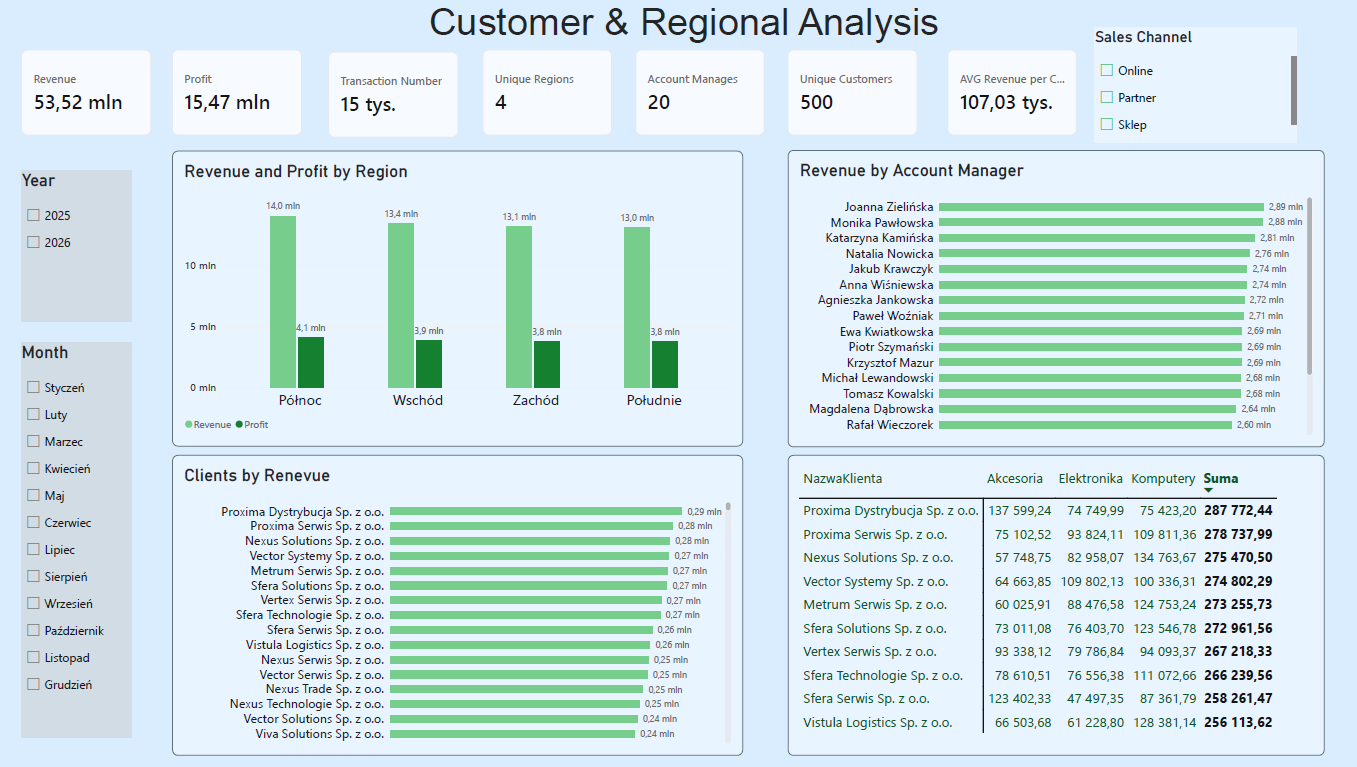

This screenshot's page, from the dashboard's own definition file:
{"tool":"powerbi","page":{"name":"Customer & Regional Analysis","canvas":[1920,1080],"ordinal":2},"visuals":[{"type":"textbox","box":[10,0,1910,77.1],"z":0},{"type":"clusteredColumnChart","title":"Revenue and Profit by Region","fields":{"Category":["sprzedaz.Region"],"Y":["Miary.Revenue","Miary.Profit"]},"box":[245,211.7,803.3,416.7],"z":1000},{"type":"clusteredBarChart","title":"Revenue by Account Manager","fields":{"Category":["klienci.Opiekun"],"Y":["Miary.Revenue"]},"box":[1111.4,211.4,754.3,417.1],"z":2000},{"type":"clusteredBarChart","title":"Clients by Renevue","fields":{"Category":["klienci.NazwaKlienta"],"Y":["Miary.Revenue"]},"box":[245,640,803.3,423.3],"z":3000},{"type":"cardVisual","fields":{"Data":["Miary.Unique Regions"]},"box":[681.7,70,181.7,120],"z":4000},{"type":"cardVisual","fields":{"Data":["Miary.Unique Customers"]},"box":[1111.4,70,181.4,120],"z":5000},{"type":"cardVisual","fields":{"Data":["Miary.Account Manages"]},"box":[896.7,70,181.7,120],"z":6000},{"type":"cardVisual","fields":{"Data":["Miary.Revenue"]},"box":[33.3,70,181.7,120],"z":7000},{"type":"cardVisual","fields":{"Data":["Miary.Profit"]},"box":[245,70,181.7,120],"z":8000},{"type":"cardVisual","fields":{"Data":["Miary.Transaction Number"]},"box":[465,73.3,181.7,120],"z":9000},{"type":"cardVisual","fields":{"Data":["Miary.AVG Revenue per Customer"]},"box":[1335.7,70,181.4,120],"z":10000},{"type":"slicer","title":"Month","fields":{"Values":["kalendarz.NazwaMiesiac"]},"box":[33.3,481.7,155,556.7],"z":11000},{"type":"slicer","title":"Year","fields":{"Values":["kalendarz.Rok"]},"box":[33.3,240,155,211.7],"z":12000},{"type":"slicer","title":"Sales Channel","fields":{"Values":["kanały.Kanal"]},"box":[1542.9,38.6,284.3,161.4],"z":12001},{"type":"pivotTable","fields":{"Columns":["produkty.Kategoria"],"Rows":["klienci.NazwaKlienta"],"Values":["Miary.Revenue"]},"box":[1111.4,640,754.3,422.9],"z":12002}]}

Visuals, with their boxes in screenshot pixels (x1, y1, x2, y2), scaled from the page's 1920x1080 canvas onto the 1357x767 screenshot:
textbox: bbox(7, 0, 1356, 55)
"Revenue and Profit by Region" clusteredColumnChart: bbox(173, 150, 741, 446)
"Revenue by Account Manager" clusteredBarChart: bbox(786, 150, 1319, 446)
"Clients by Renevue" clusteredBarChart: bbox(173, 455, 741, 755)
cardVisual - Miary.Unique Regions: bbox(482, 50, 610, 135)
cardVisual - Miary.Unique Customers: bbox(786, 50, 914, 135)
cardVisual - Miary.Account Manages: bbox(634, 50, 762, 135)
cardVisual - Miary.Revenue: bbox(24, 50, 152, 135)
cardVisual - Miary.Profit: bbox(173, 50, 302, 135)
cardVisual - Miary.Transaction Number: bbox(329, 52, 457, 137)
cardVisual - Miary.AVG Revenue per Customer: bbox(944, 50, 1072, 135)
"Month" slicer: bbox(24, 342, 133, 737)
"Year" slicer: bbox(24, 170, 133, 321)
"Sales Channel" slicer: bbox(1090, 27, 1291, 142)
pivotTable - produkty.Kategoria x klienci.NazwaKlienta: bbox(786, 455, 1319, 755)
